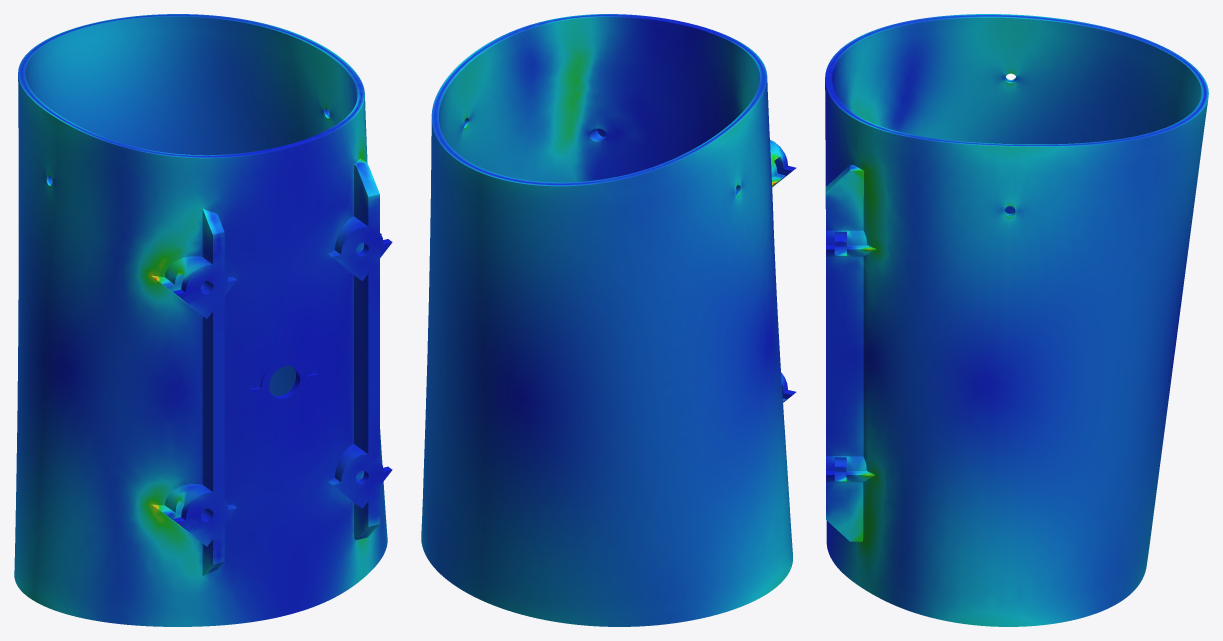
Rendered from result.glb.
The picture shows the model from 3 angles, left to right: view 1: azimuth 30°, elevation 25°; view 2: azimuth 150°, elevation 25°; view 3: azimuth 270°, elevation 25°; orthographic projection.
Parts seen in each view (by area): view 1: 75dde284-f6af-5e0f-876b-8676f8f9c983 von Mises; view 2: 75dde284-f6af-5e0f-876b-8676f8f9c983 von Mises; view 3: 75dde284-f6af-5e0f-876b-8676f8f9c983 von Mises.
Boxes of the visible parts, x1,y1,x2,y2 form: 75dde284-f6af-5e0f-876b-8676f8f9c983 von Mises: (14,14,392,626); 75dde284-f6af-5e0f-876b-8676f8f9c983 von Mises: (421,14,796,626); 75dde284-f6af-5e0f-876b-8676f8f9c983 von Mises: (825,14,1208,626).
Bounding box in the file's own units: 0.0877 × 0.119 × 0.0863.
1 material, 1 textured.
